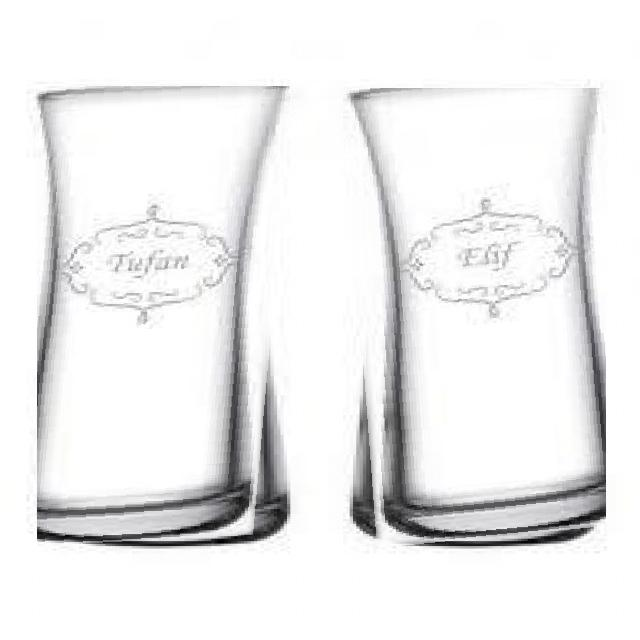Glass: (343, 89, 606, 548), (37, 86, 294, 548)
